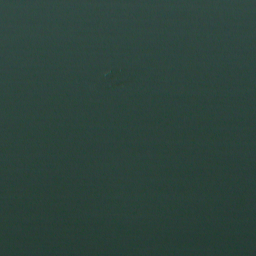con: (99, 61, 145, 97)
